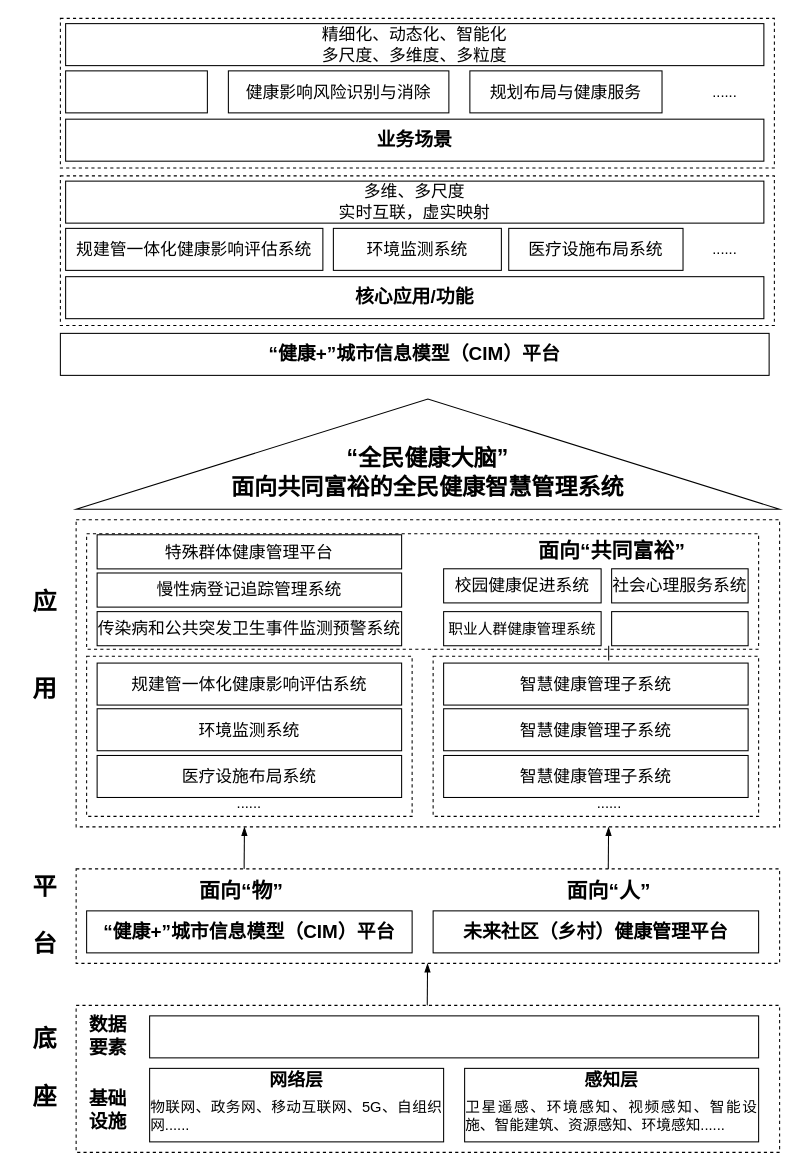
Image size: 798x1171. Some labels were removed from this diagram. Each missing label, with the centre of its shape:
"健康影响评估" belongs at (136,91).
"多源数据、深度学习、云计算、边缘计算、 GIS......" belongs at (454,1036).
"疫苗接种管理系统" belongs at (679,628).
